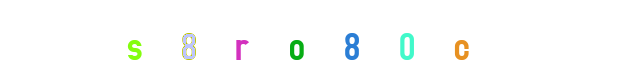0: (334, 0, 414, 80)
8: (199, 0, 279, 80), (312, 0, 392, 80)
C: (353, 0, 433, 80)
O: (277, 0, 357, 80)
R: (256, 0, 336, 80)
S: (114, 0, 194, 80)
